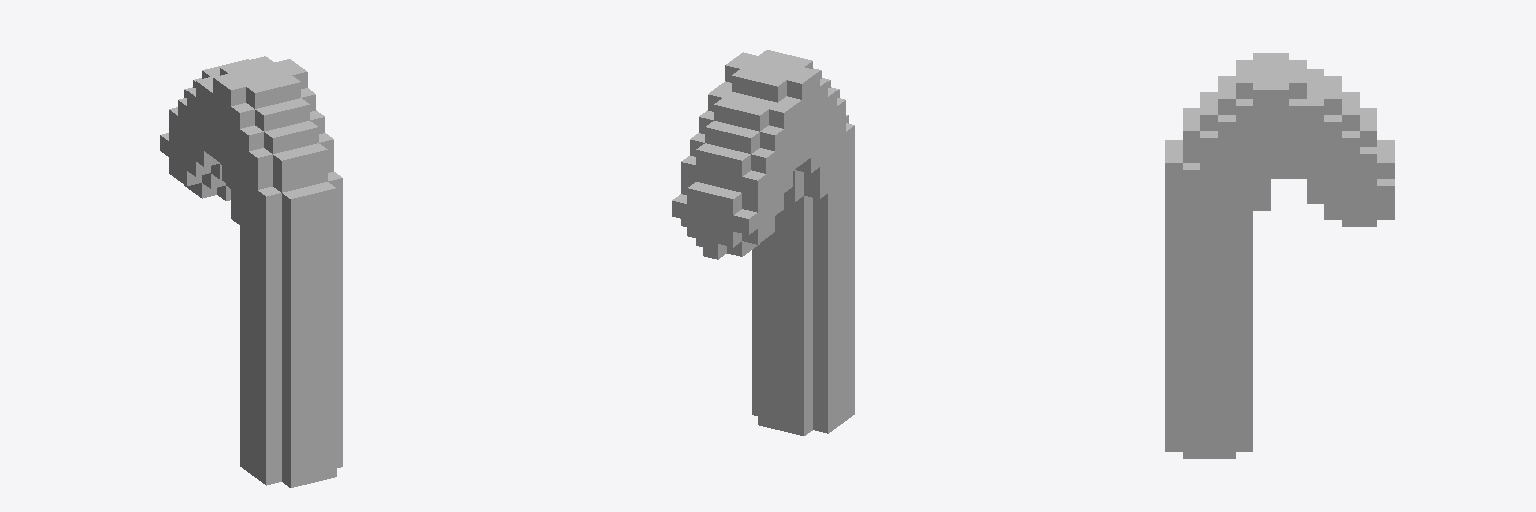
File: Candy.obj
3 views of the same model, side by side, from view 1: azimuth 30°, elevation 25°; view 2: azimuth 150°, elevation 25°; view 3: azimuth 270°, elevation 25° (orthographic).
Parts seen in each view (by area): view 1: object 1; view 2: object 1; view 3: object 1.
Part boxes in pixels (x1,y1,x2,y2): object 1: (160,56,342,487); object 1: (672,50,854,435); object 1: (1165,53,1394,458).
Bounding box in the file's own units: 0.5 × 2.3 × 1.3.